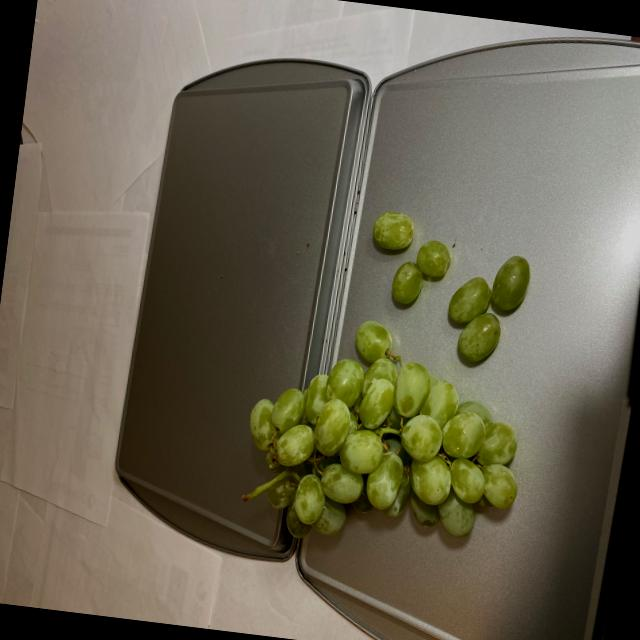grapes: (236, 197, 546, 560)
